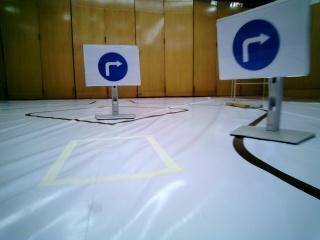right: (220, 15, 304, 77), (84, 43, 140, 86)
